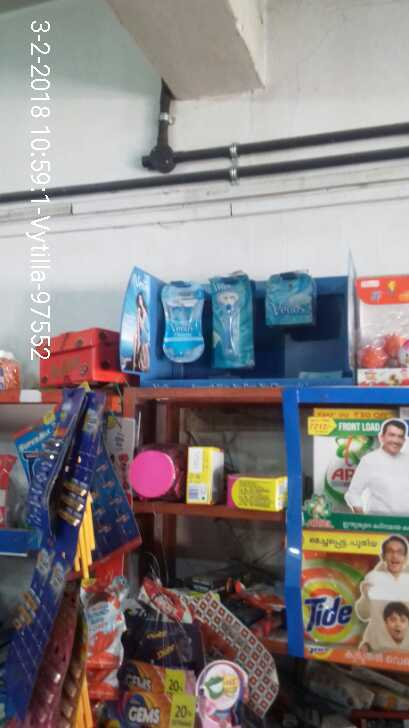beauty: (159, 281, 206, 364), (205, 280, 250, 364), (261, 278, 320, 319)
home: (306, 409, 404, 515), (302, 557, 372, 644)
